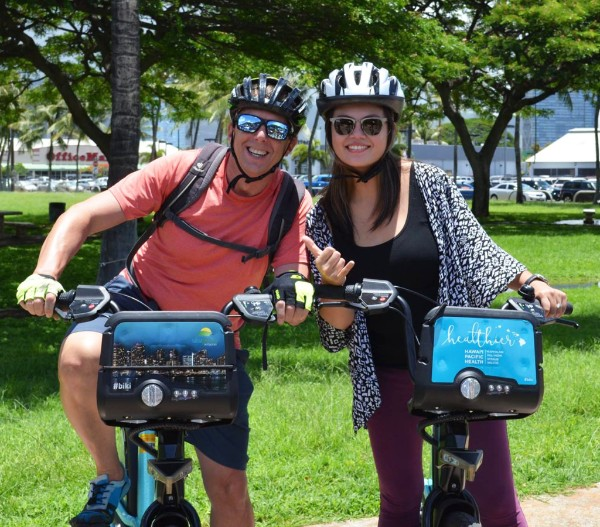with_helmet: (317, 61, 410, 118), (223, 74, 310, 119)
